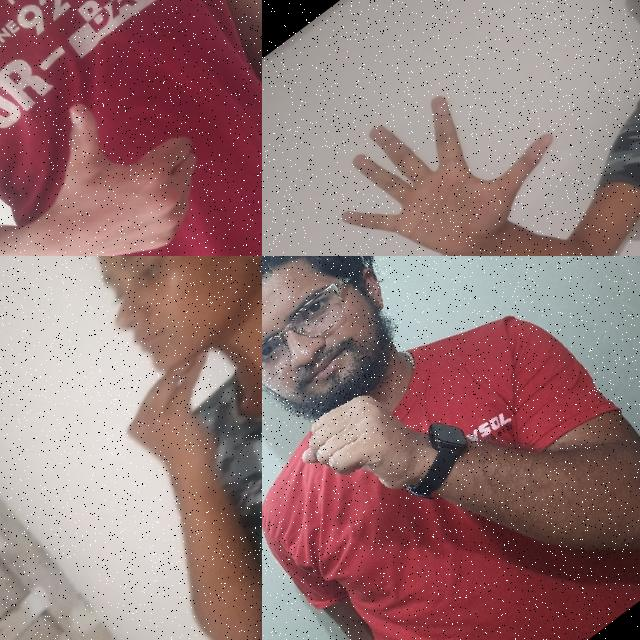Chin Flick: (0, 256, 262, 525)
Fist Mouth: (262, 256, 522, 560)
Moutza: (303, 33, 606, 256)
Thumbs Up: (0, 52, 246, 256)
